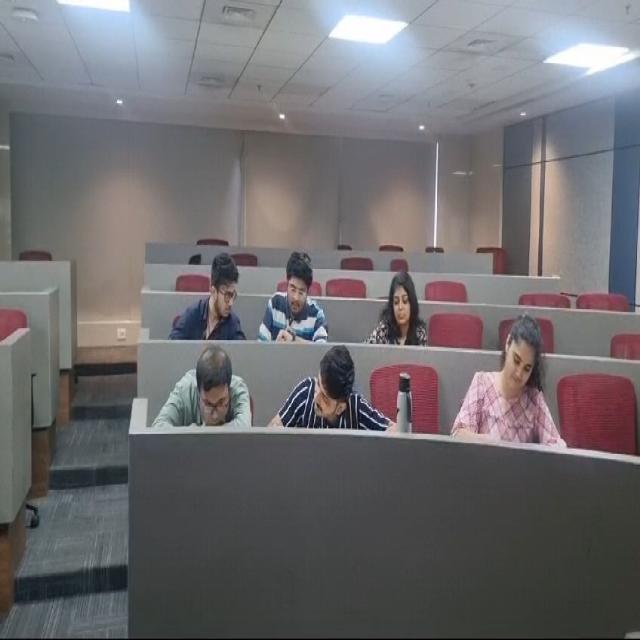cheating: (293, 348, 375, 432), (263, 252, 328, 344), (183, 354, 252, 438), (197, 247, 246, 330)
non-cheating: (485, 303, 558, 422), (374, 264, 432, 348)
